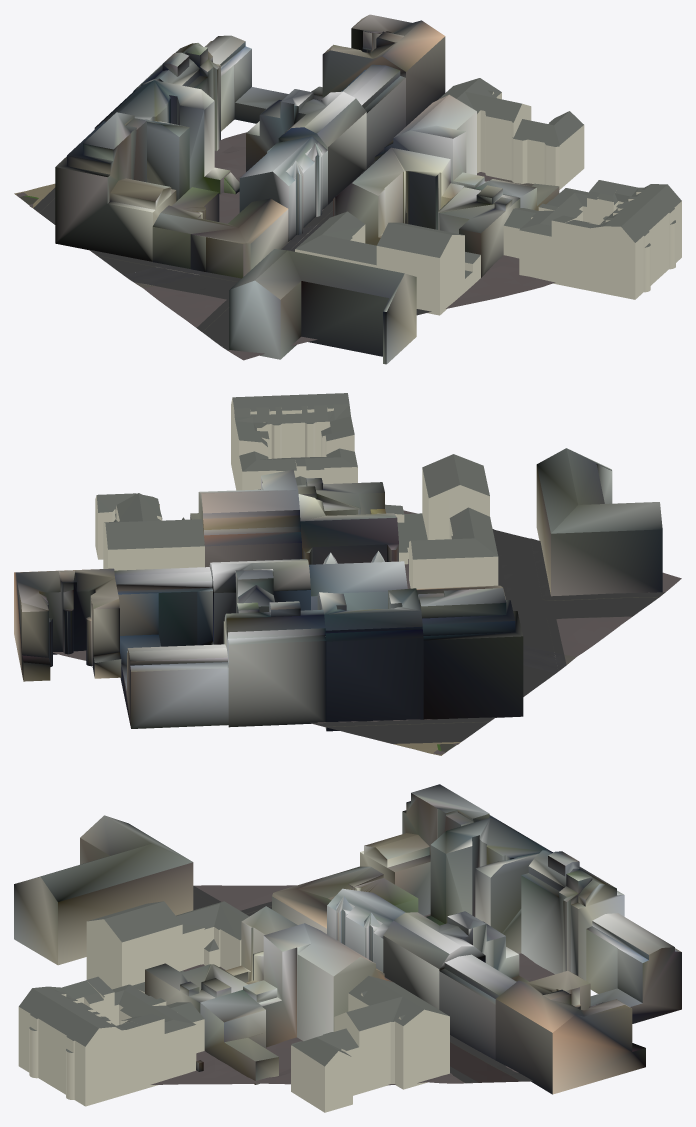
The picture shows the model from 3 angles, top to bottom: view 1: azimuth 30°, elevation 25°; view 2: azimuth 150°, elevation 25°; view 3: azimuth 270°, elevation 25°; orthographic projection. The views are drawn at different scales.
Parts seen in each view (by area): view 1: c_m09_p03; view 2: c_m09_p03; view 3: c_m09_p03.
Part boxes in pixels (x1,y1,x2,y2): c_m09_p03: (14,14,681,364); c_m09_p03: (14,393,681,755); c_m09_p03: (14,784,681,1112).
Bounding box in the file's own units: 151 × 34.01 × 177.
